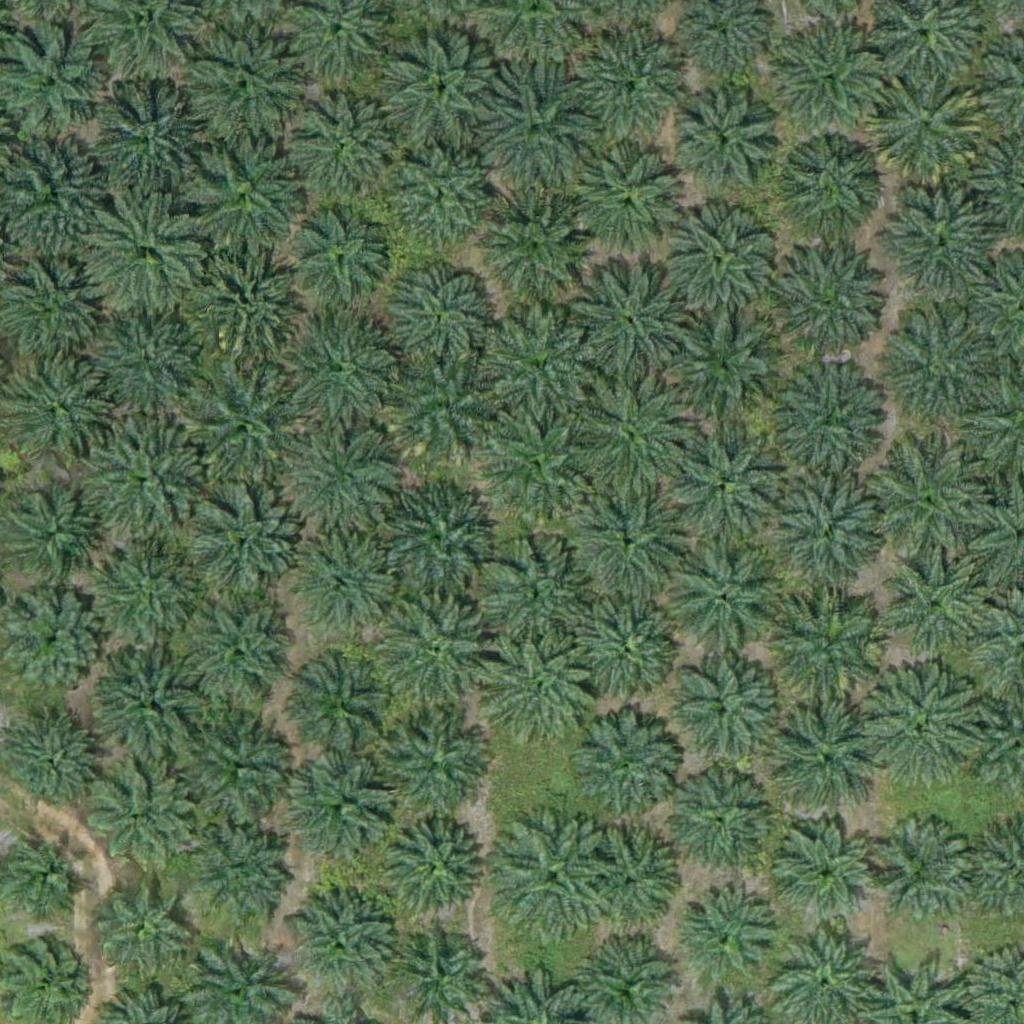Kelapa_Sawit: (470, 72, 595, 198), (381, 35, 506, 161), (88, 88, 213, 214), (181, 24, 306, 150), (85, 641, 210, 767), (82, 534, 207, 660), (82, 412, 207, 538), (84, 192, 209, 318), (192, 233, 317, 359), (182, 356, 307, 482), (183, 485, 308, 611), (176, 705, 301, 831), (278, 423, 403, 549), (279, 313, 404, 439), (376, 476, 501, 602), (372, 587, 497, 713), (480, 632, 605, 758), (473, 534, 598, 660), (565, 371, 690, 497), (567, 475, 692, 601), (563, 582, 688, 708), (559, 703, 684, 829), (661, 653, 786, 779), (661, 536, 786, 662), (768, 239, 893, 365), (771, 357, 896, 483), (767, 583, 892, 709), (766, 699, 891, 825), (864, 439, 989, 565), (871, 307, 996, 433), (876, 179, 1001, 305), (488, 814, 613, 940), (866, 72, 991, 197), (768, 14, 893, 139), (566, 257, 691, 382), (667, 419, 792, 544), (667, 307, 792, 432), (767, 470, 892, 595), (862, 666, 987, 791), (295, 95, 408, 209), (85, 316, 198, 430), (181, 598, 294, 711), (387, 141, 500, 254), (480, 305, 593, 418), (382, 260, 495, 373), (389, 358, 502, 471), (286, 888, 399, 1001), (183, 819, 296, 932), (580, 33, 692, 146), (190, 143, 302, 256), (288, 648, 400, 761), (480, 184, 592, 297), (377, 714, 489, 827), (576, 146, 688, 259), (85, 764, 197, 877), (780, 130, 880, 231), (675, 90, 775, 191), (12, 362, 112, 463), (5, 591, 105, 692), (1, 716, 101, 817), (290, 210, 390, 311), (488, 411, 588, 512), (670, 213, 770, 314), (887, 557, 987, 658), (867, 822, 967, 923), (777, 825, 877, 926), (665, 772, 765, 873), (677, 888, 777, 989), (579, 821, 679, 922), (87, 870, 187, 971), (300, 543, 400, 643), (382, 816, 482, 916), (294, 760, 394, 860), (3, 142, 102, 242), (8, 496, 96, 584)
